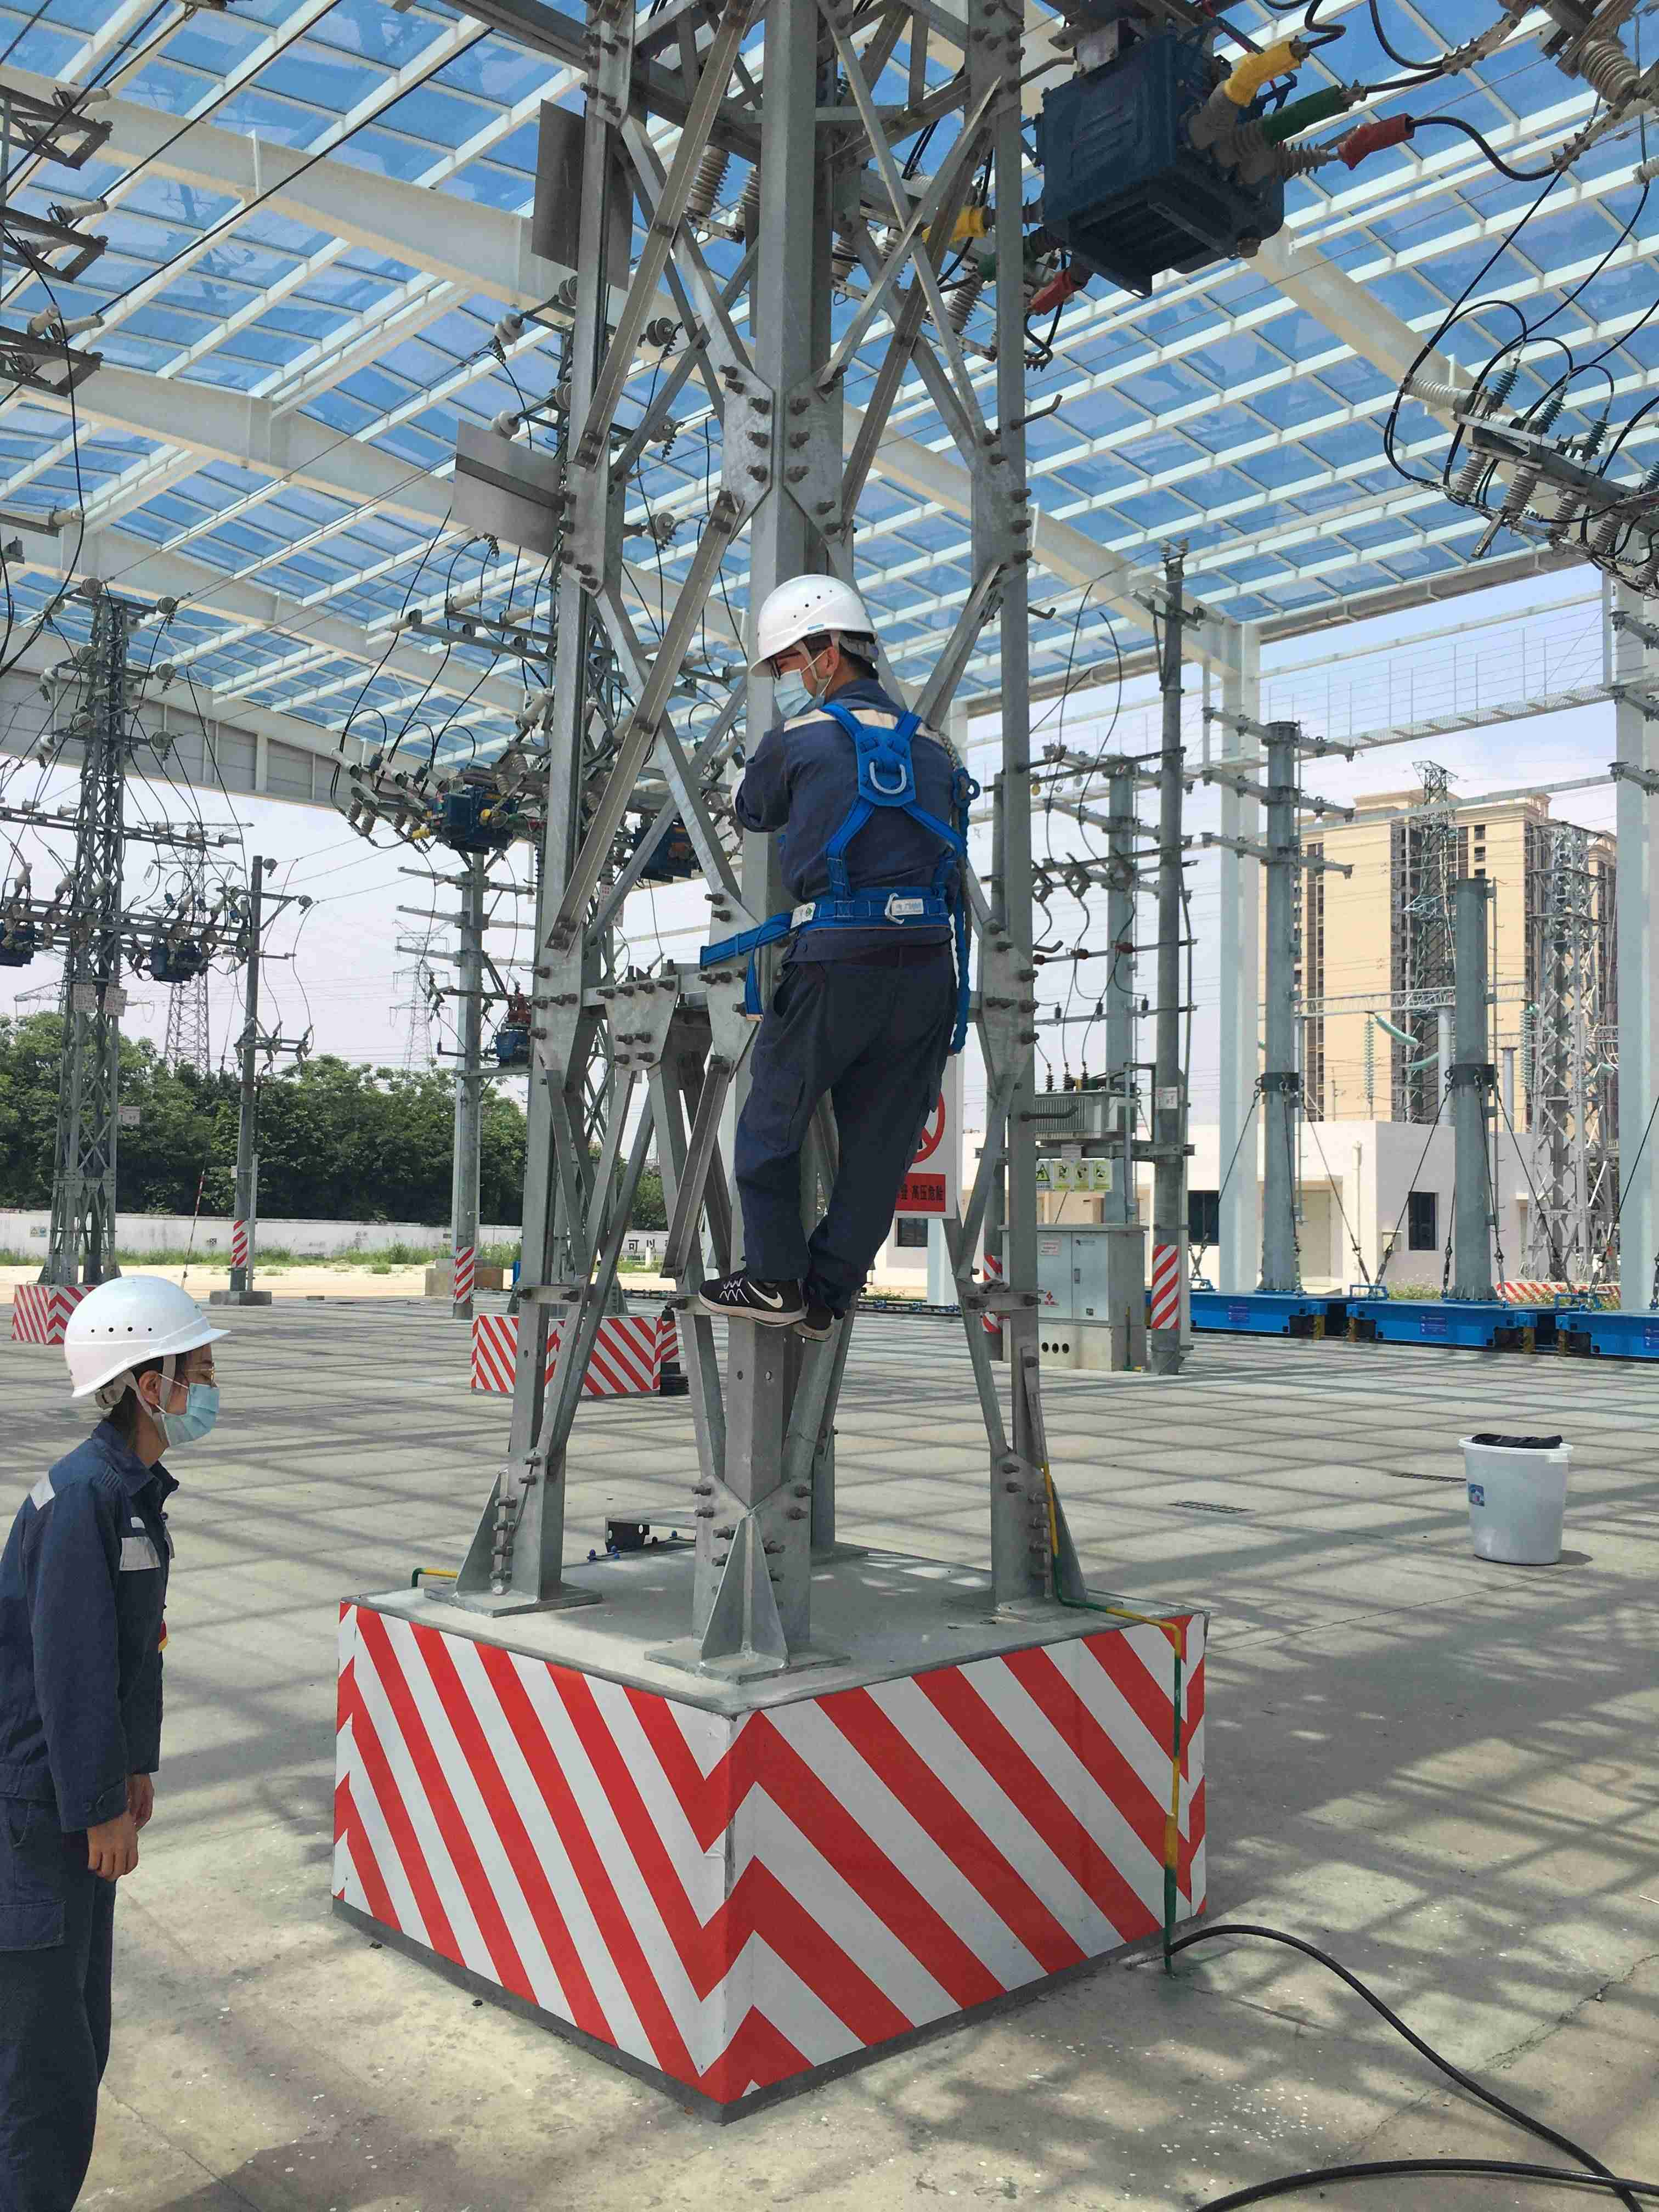downsuit: (721, 944, 964, 1303), (2, 1844, 124, 2212)
upsuit: (2, 1432, 186, 1844), (742, 691, 972, 921)
